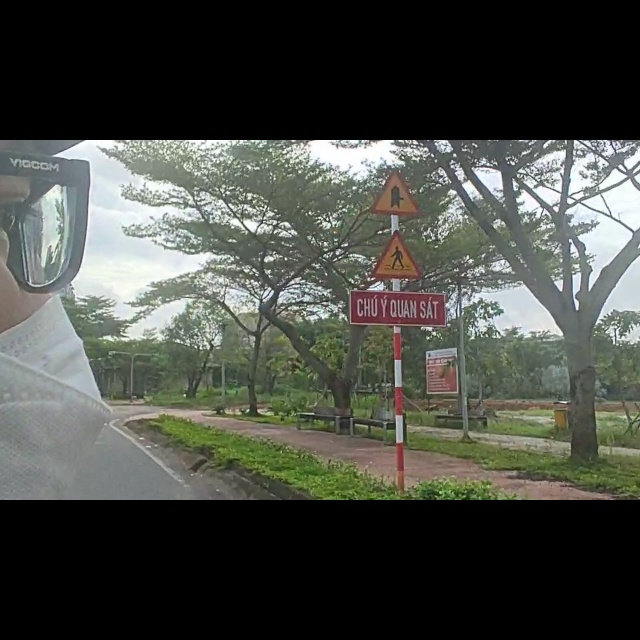bien_nguy_hiem: (365, 159, 429, 250), (369, 50, 427, 139)
